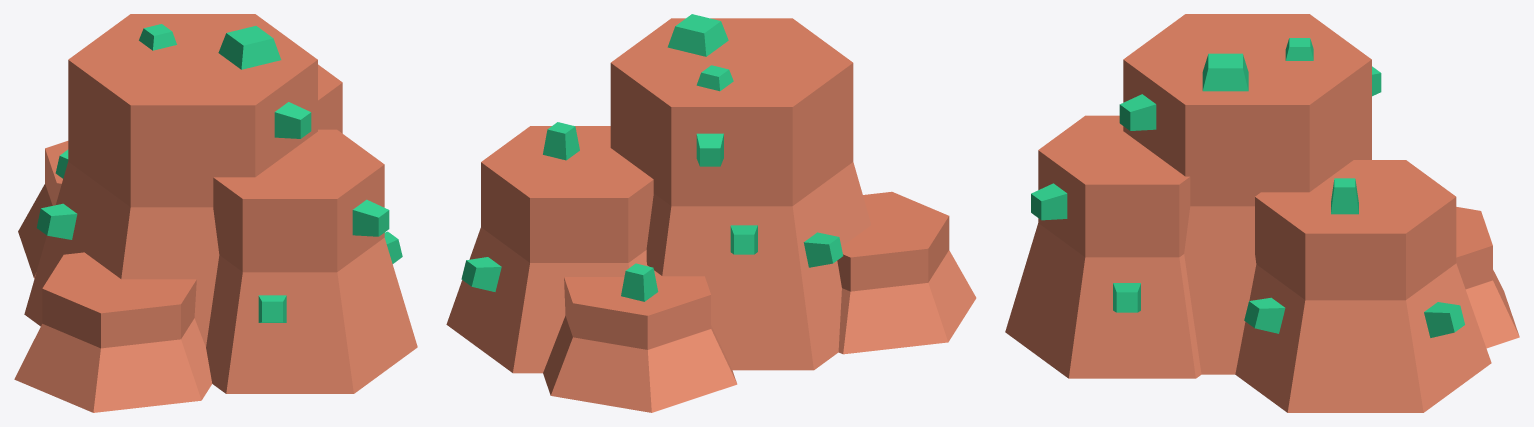
File: rock_crystalsLargeA.obj
The picture shows the model from 3 angles, left to right: view 1: azimuth 30°, elevation 25°; view 2: azimuth 150°, elevation 25°; view 3: azimuth 270°, elevation 25°; orthographic projection. The views are drawn at different scales.
Visible parts, largest first — view 1: rock_crystalsLargeA; view 2: rock_crystalsLargeA; view 3: rock_crystalsLargeA.
Part boxes in pixels (x1,y1,x2,y2): rock_crystalsLargeA: [14, 14, 417, 412]; rock_crystalsLargeA: [446, 14, 976, 412]; rock_crystalsLargeA: [1005, 14, 1519, 412].
Size of the model in its own units: 0.8339 by 0.541 by 0.9193.
